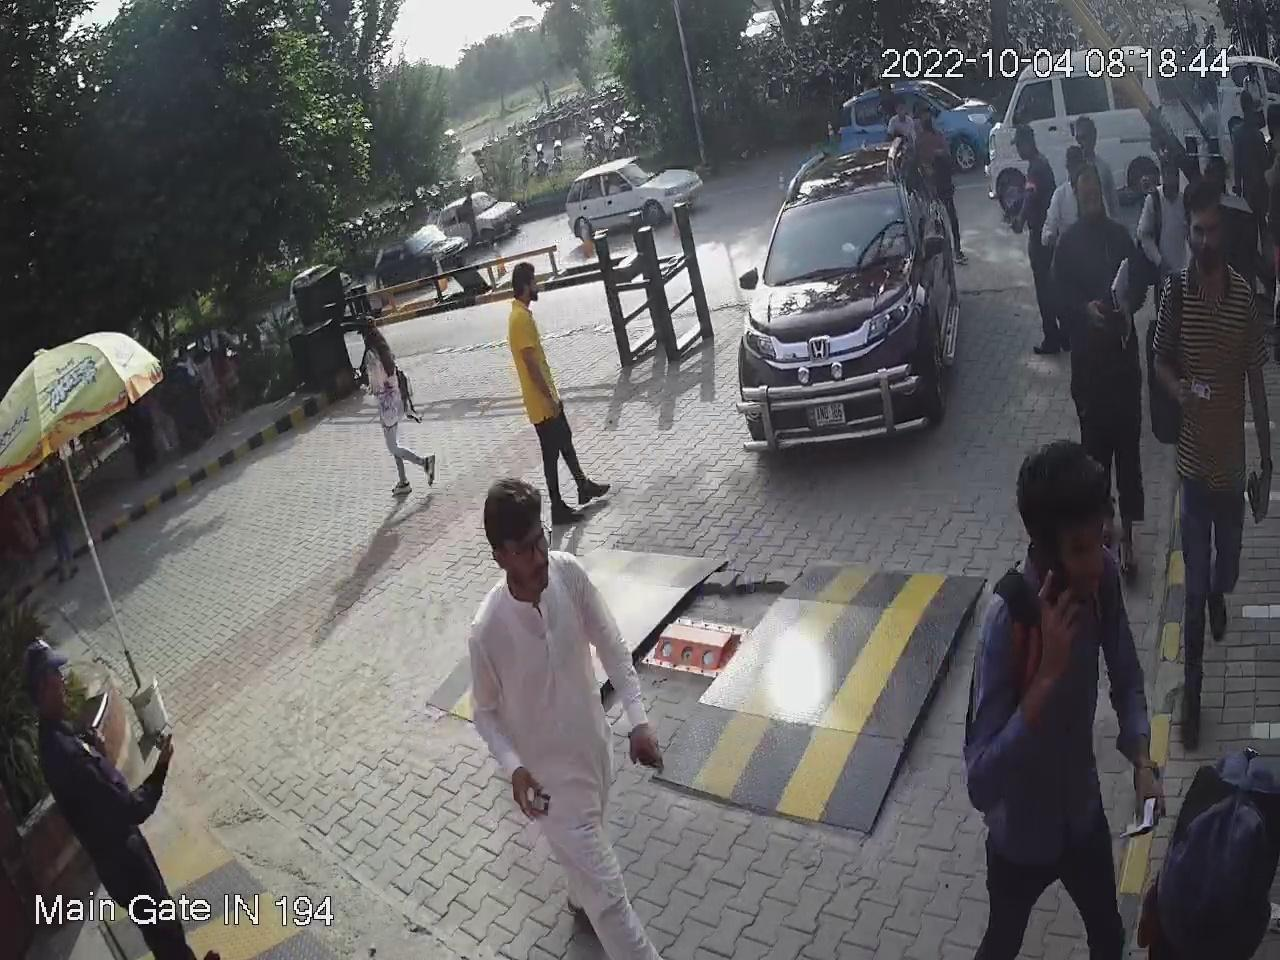windshield: (758, 177, 908, 287)
